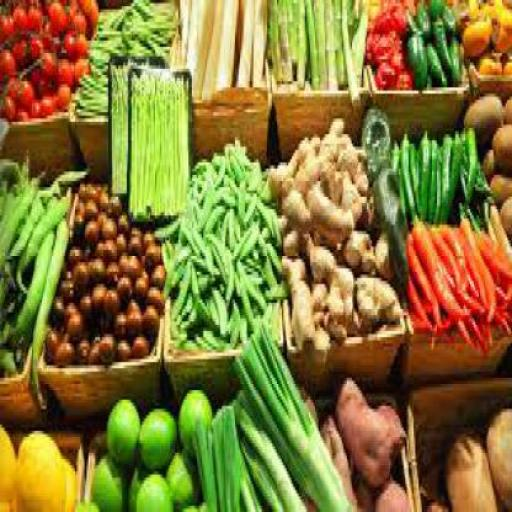biodegradable: (231, 324, 347, 509), (232, 390, 306, 510), (332, 368, 406, 484), (130, 62, 186, 212), (28, 215, 66, 409), (432, 225, 482, 350), (13, 191, 72, 290), (410, 215, 465, 319), (2, 228, 53, 337), (0, 168, 50, 268), (402, 228, 448, 334), (162, 238, 208, 344), (110, 57, 147, 187), (442, 421, 496, 509), (193, 409, 235, 509), (178, 218, 239, 284), (15, 428, 64, 509), (304, 234, 353, 315), (319, 405, 357, 509), (222, 403, 258, 509), (458, 219, 496, 318), (195, 290, 259, 344), (310, 262, 351, 341), (191, 140, 235, 213), (282, 253, 314, 353), (0, 146, 28, 255), (310, 244, 351, 318), (354, 268, 402, 328), (485, 405, 511, 509), (137, 402, 177, 469), (122, 18, 177, 66), (177, 383, 212, 456), (307, 181, 350, 240), (186, 0, 212, 94), (163, 443, 199, 510), (343, 222, 389, 274), (104, 394, 136, 468), (186, 259, 218, 328), (462, 88, 502, 143), (5, 194, 42, 253), (402, 272, 437, 334), (360, 103, 388, 178), (373, 158, 399, 238), (90, 450, 125, 509), (453, 224, 482, 294), (254, 237, 286, 300), (440, 218, 467, 290), (473, 228, 510, 280), (278, 172, 309, 234), (334, 131, 366, 190), (348, 0, 370, 85), (340, 169, 372, 225), (198, 0, 217, 94), (213, 0, 234, 85), (230, 134, 260, 193), (290, 131, 319, 190), (71, 66, 107, 112), (250, 0, 269, 85), (316, 144, 342, 206), (0, 421, 18, 508), (132, 468, 170, 509), (233, 0, 252, 81), (480, 230, 511, 278), (318, 110, 349, 158), (390, 137, 408, 216), (312, 0, 327, 91), (462, 12, 491, 59), (88, 31, 130, 63), (266, 143, 292, 194), (228, 222, 256, 268), (331, 0, 346, 85), (338, 0, 352, 91), (400, 128, 414, 218), (170, 259, 191, 318), (363, 25, 399, 59), (420, 462, 446, 509), (275, 0, 290, 81), (462, 124, 476, 210), (432, 12, 452, 72), (294, 0, 308, 85), (324, 0, 337, 91), (374, 478, 409, 510), (303, 0, 316, 85), (424, 31, 446, 81), (447, 128, 460, 212), (255, 196, 279, 241), (490, 121, 511, 172), (236, 268, 262, 309), (490, 0, 511, 50), (266, 0, 279, 79), (378, 0, 410, 32), (236, 178, 258, 224), (407, 25, 425, 81), (490, 282, 511, 330), (45, 162, 90, 184), (132, 0, 177, 22), (97, 0, 131, 28), (438, 125, 448, 218), (487, 166, 510, 206), (417, 124, 427, 216), (350, 471, 374, 509), (208, 281, 225, 334), (390, 212, 405, 272), (60, 452, 75, 509), (425, 137, 435, 222), (8, 0, 30, 38), (369, 6, 397, 35), (43, 0, 68, 32), (138, 299, 159, 337), (237, 275, 252, 328), (50, 290, 68, 334), (435, 140, 445, 219), (373, 53, 397, 85), (63, 0, 87, 32), (411, 0, 431, 38), (50, 334, 73, 366), (408, 137, 418, 210), (0, 340, 22, 372), (72, 259, 88, 303), (35, 43, 57, 75), (122, 296, 140, 334), (94, 331, 116, 359), (75, 0, 97, 28), (90, 284, 106, 322), (63, 237, 82, 269), (130, 265, 147, 300), (178, 0, 188, 59), (281, 222, 300, 253), (126, 328, 147, 356), (127, 465, 140, 509), (475, 50, 501, 72), (140, 237, 162, 263), (286, 0, 296, 57), (0, 47, 15, 85), (56, 265, 72, 300), (447, 32, 459, 78), (78, 290, 92, 328), (152, 215, 180, 234), (63, 31, 87, 53), (386, 43, 402, 75), (27, 0, 43, 32), (67, 306, 82, 340), (463, 0, 491, 18), (498, 196, 511, 234), (480, 143, 492, 184), (54, 78, 68, 113), (116, 250, 138, 272), (146, 262, 168, 284), (115, 275, 130, 306), (0, 6, 12, 44), (104, 284, 118, 316), (90, 256, 106, 284), (84, 215, 98, 247), (440, 0, 455, 28), (72, 53, 87, 81), (145, 284, 164, 306), (70, 200, 89, 222), (41, 324, 54, 356), (28, 31, 42, 60), (105, 259, 119, 287), (18, 75, 32, 103), (56, 56, 72, 78), (96, 181, 106, 215), (25, 93, 38, 119), (72, 497, 100, 509), (395, 66, 410, 88), (12, 38, 26, 60), (87, 178, 100, 200), (109, 193, 120, 219), (100, 210, 113, 232), (125, 231, 140, 250), (115, 340, 129, 359), (92, 234, 104, 256), (3, 75, 15, 97), (502, 93, 511, 122), (176, 499, 202, 509), (86, 334, 96, 360), (75, 334, 85, 360), (36, 94, 50, 112), (113, 231, 126, 250), (1, 94, 14, 112), (115, 206, 125, 228), (102, 234, 112, 256), (14, 103, 27, 119), (426, 0, 443, 12), (86, 200, 96, 218), (142, 224, 150, 246), (127, 222, 138, 237), (500, 56, 510, 72), (76, 182, 85, 196)
